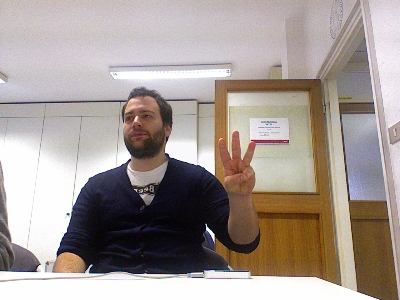三分: (217, 130, 256, 196)
